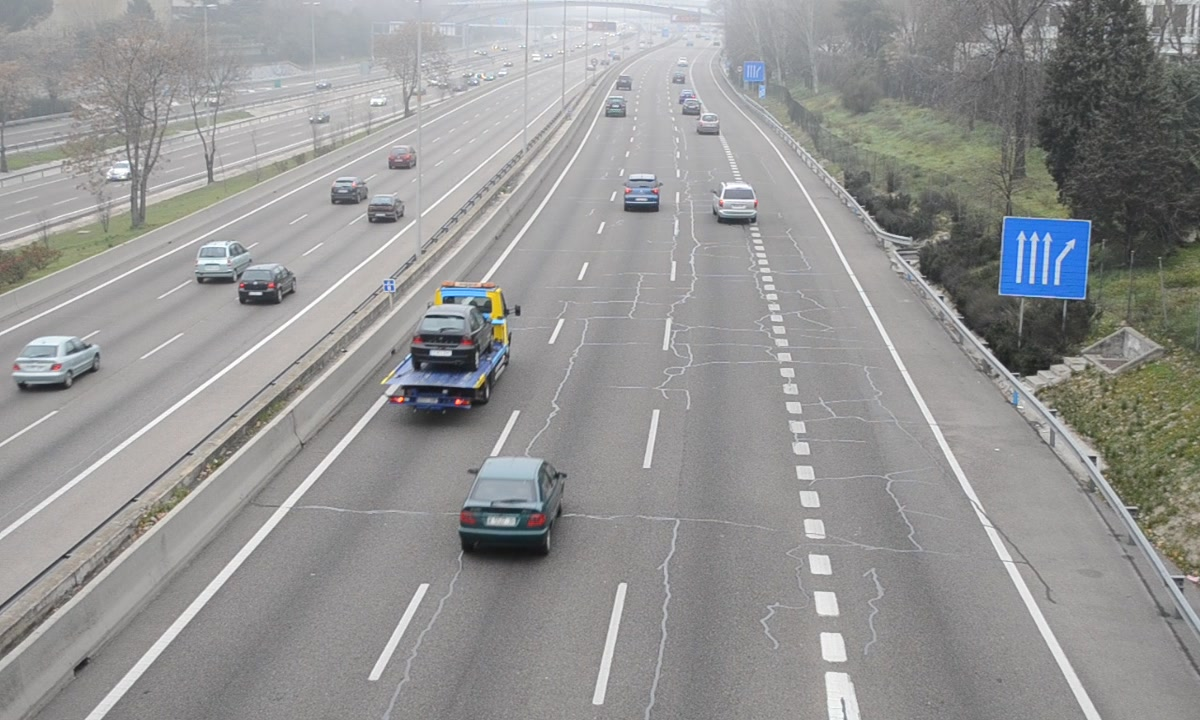car: (460, 460, 561, 546), (712, 182, 759, 224), (623, 173, 662, 212), (697, 111, 720, 136), (604, 96, 628, 118)
small-truck: (381, 281, 512, 411)
